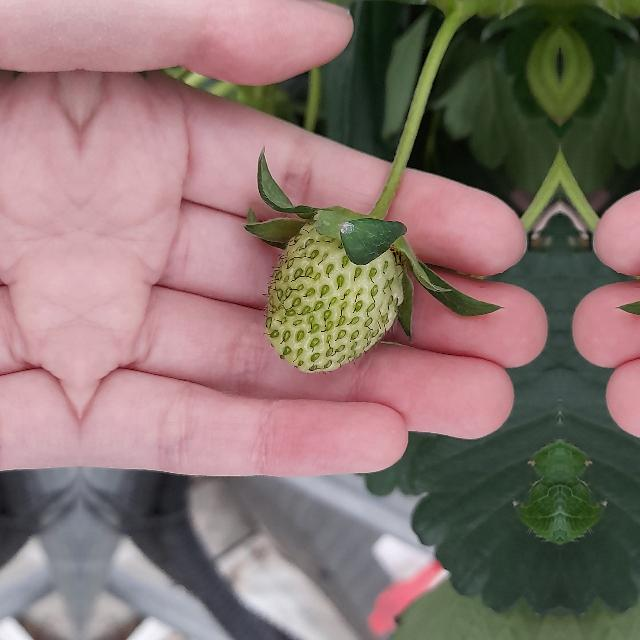Health_25: (264, 219, 404, 373)
